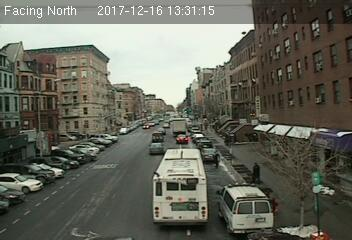bus: (151, 146, 209, 228)
car: (200, 147, 218, 160), (149, 142, 164, 154), (175, 133, 188, 144), (151, 132, 163, 142)
pedestrian: (249, 160, 263, 182)
police: (217, 180, 274, 232)
